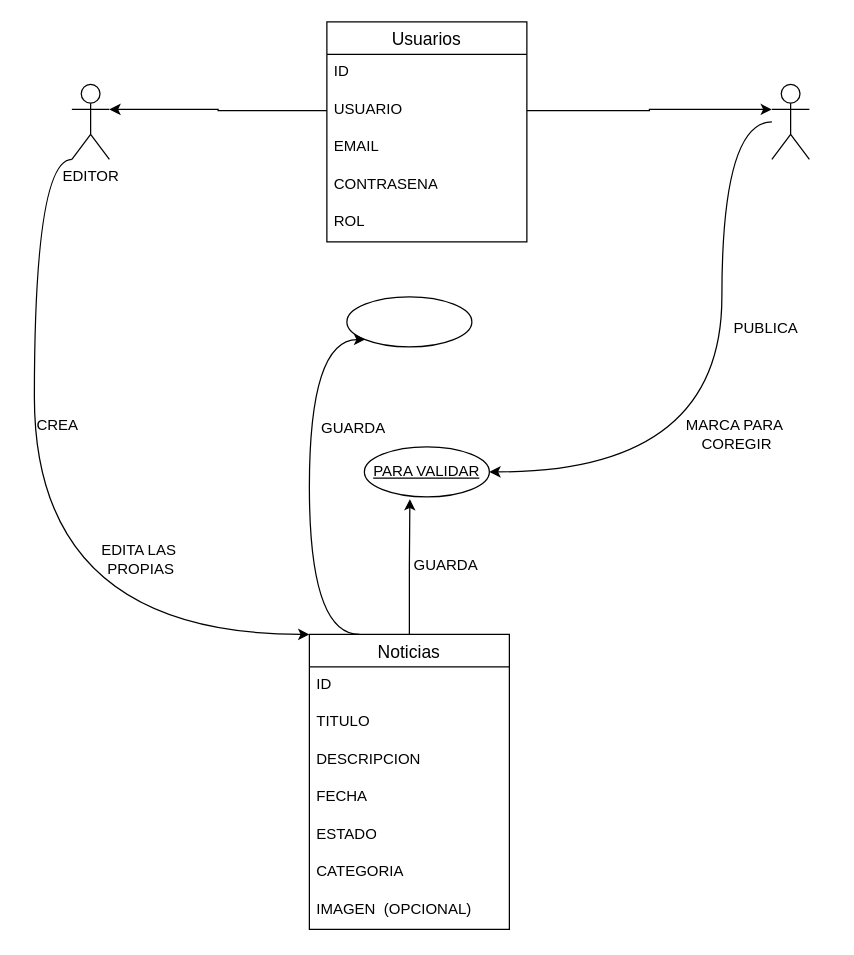
The diagram is 854 pixels wide and 955 high, and some of its shapes have lost their labels. Here are the shapes that lost their labels. From the top down, the centre of each, then its label:
point (790, 121): VALIDADOR
point (409, 321): BORRADOR
